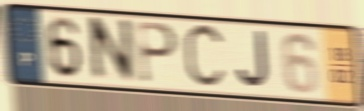6: (44, 14, 83, 82), (279, 30, 319, 96)
C: (181, 20, 229, 93)
J: (234, 29, 272, 92)
N: (90, 14, 137, 86)
P: (134, 19, 180, 87)
